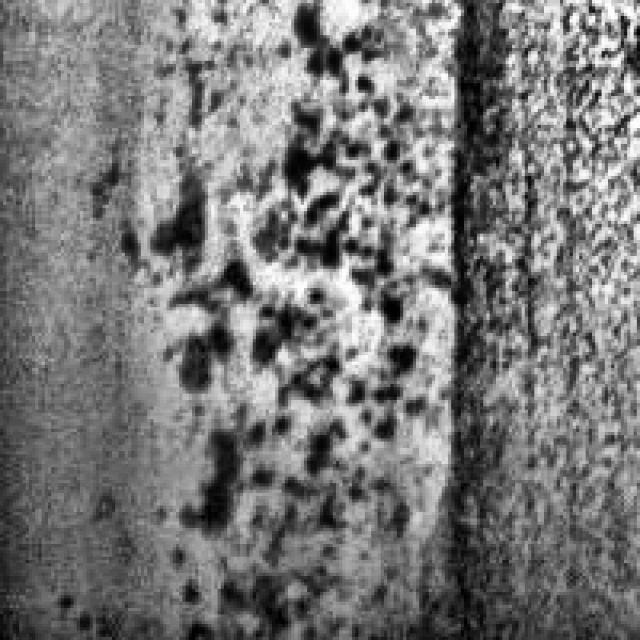Rolled_in_Scale: (109, 3, 438, 637), (448, 0, 637, 637)
